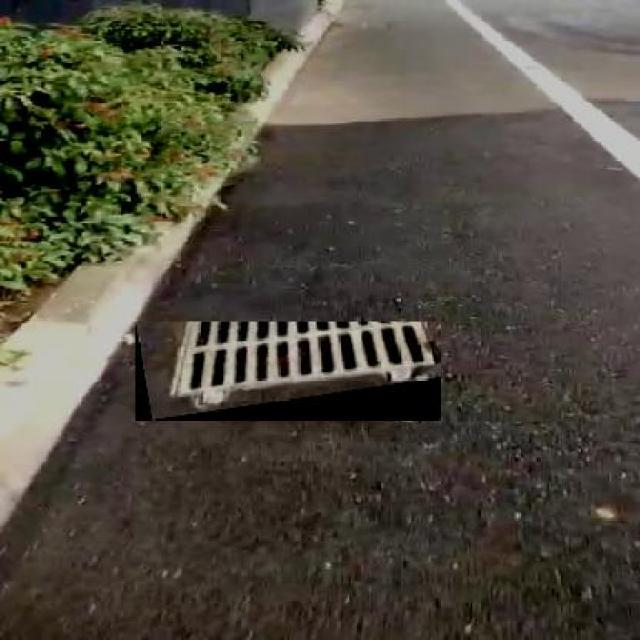Manhole: (135, 322, 440, 420)
